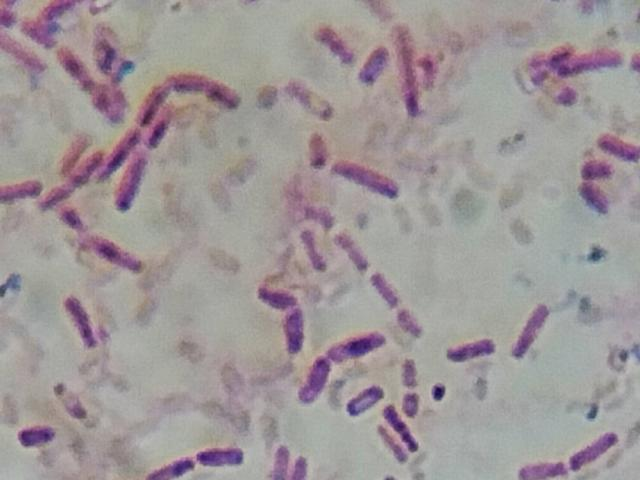E. coli: (329, 151, 404, 198), (565, 422, 619, 472), (394, 30, 426, 114), (173, 71, 238, 107), (67, 291, 103, 346), (513, 301, 546, 359), (386, 401, 417, 460), (332, 328, 390, 359), (50, 380, 90, 421), (337, 231, 376, 270), (59, 45, 96, 85), (299, 355, 328, 406), (194, 441, 244, 470), (96, 239, 141, 271), (570, 150, 617, 180), (600, 124, 637, 162), (344, 379, 381, 417), (135, 80, 171, 119), (562, 52, 623, 75), (98, 26, 126, 76), (119, 162, 148, 210), (446, 338, 495, 366), (7, 34, 43, 72), (36, 0, 90, 25), (577, 181, 612, 217), (90, 81, 125, 117), (308, 126, 334, 174), (13, 418, 56, 447), (296, 226, 322, 273), (295, 79, 328, 116), (150, 451, 192, 480), (22, 15, 55, 51), (0, 174, 37, 206), (105, 126, 131, 171), (517, 457, 566, 480), (357, 45, 384, 85), (376, 426, 403, 466), (368, 268, 397, 305), (392, 307, 424, 339), (260, 279, 295, 306), (42, 182, 79, 206), (286, 306, 305, 351), (270, 444, 294, 479), (536, 39, 567, 65), (294, 444, 316, 480), (320, 21, 343, 55), (59, 207, 89, 233), (397, 360, 423, 389), (73, 157, 99, 184), (0, 0, 24, 29), (63, 136, 85, 163), (153, 117, 172, 146), (405, 391, 420, 412)
